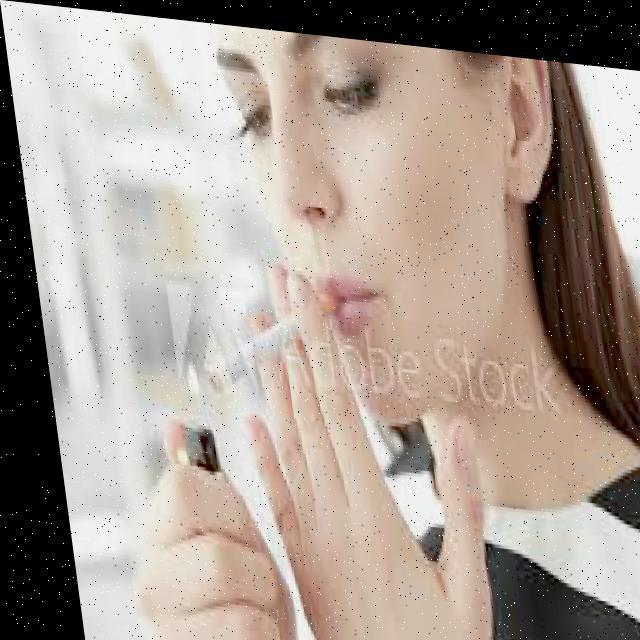Fire: (159, 346, 205, 416)
